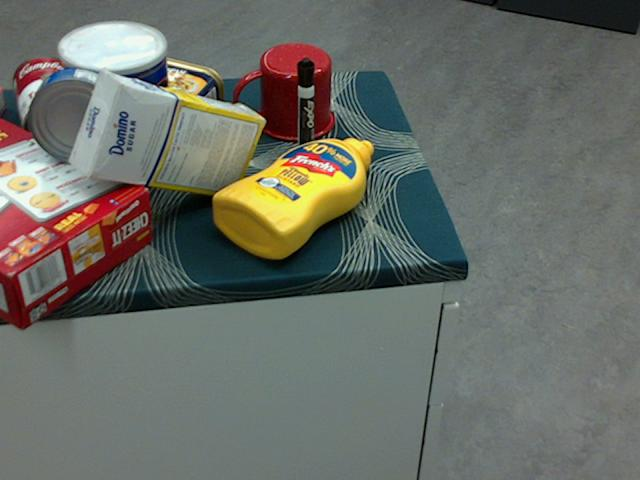cracker_box: (0, 117, 153, 326)
gelatin_box: (0, 86, 7, 119)
large_marker: (295, 57, 315, 163)
master_chef_can: (59, 23, 172, 191)
mug: (232, 44, 333, 142)
mustard_bottle: (212, 137, 373, 258)
potted_meat_can: (111, 56, 223, 144)
sugar_box: (69, 73, 265, 197)
tomato_soup_can: (15, 54, 86, 153)
tuna_fish_can: (27, 68, 125, 164)
